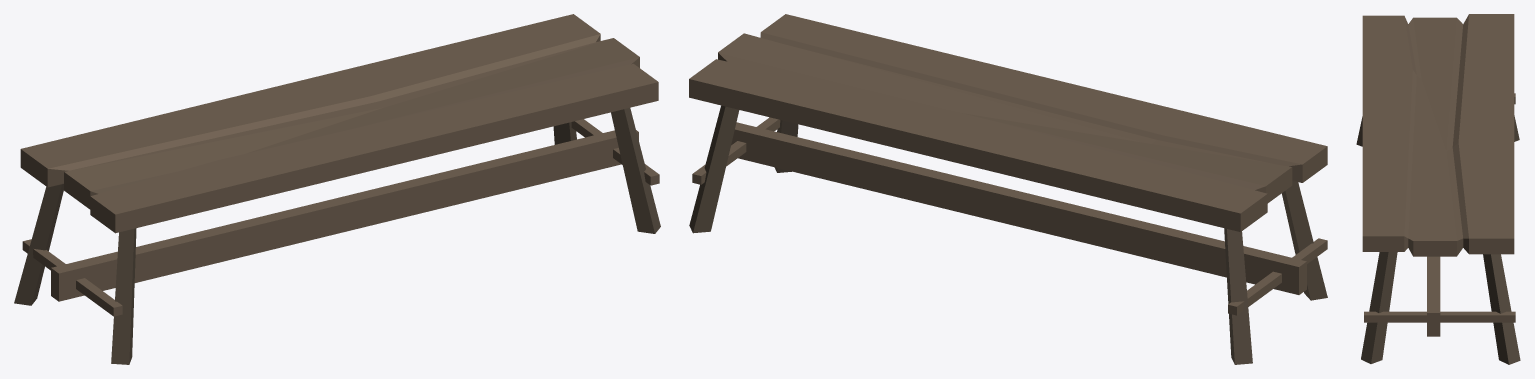
The model's file is SM_Prop_Bench_01.glb.
3 renders of one model, left to right at view 1: azimuth 30°, elevation 25°; view 2: azimuth 150°, elevation 25°; view 3: azimuth 270°, elevation 25°, orthographic. The views are drawn at different scales.
Parts seen in each view (by area): view 1: SM_Prop_Bench_01; view 2: SM_Prop_Bench_01; view 3: SM_Prop_Bench_01.
Boxes of the visible parts, bbox=[...] form: SM_Prop_Bench_01: bbox=[14, 14, 660, 364]; SM_Prop_Bench_01: bbox=[689, 14, 1327, 364]; SM_Prop_Bench_01: bbox=[1356, 14, 1520, 364].
Bounding box in the file's own units: 0.0197 × 0.00487 × 0.00579.
